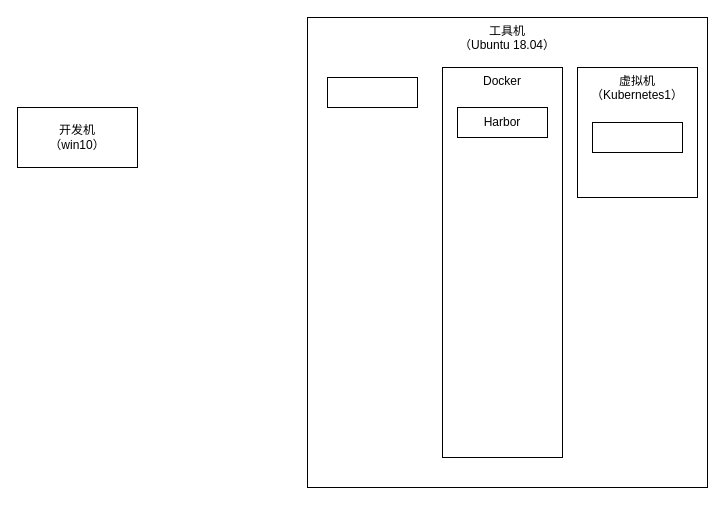
Some shapes in this 725 by 505 pixel diagram are drawn without their labels. Each missing label, with the centre of its shape:
Kubernetes master: point 637,137
OpenVPN: point 372,92
